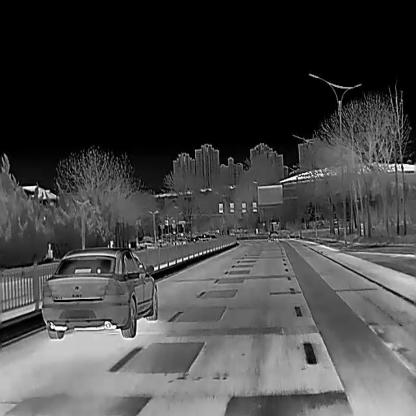car: (40, 247, 158, 338), (266, 230, 281, 242)
